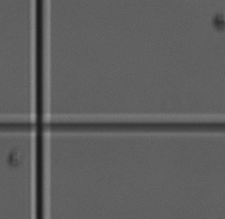Dead Cell: (9, 148, 24, 165), (214, 13, 225, 30)
